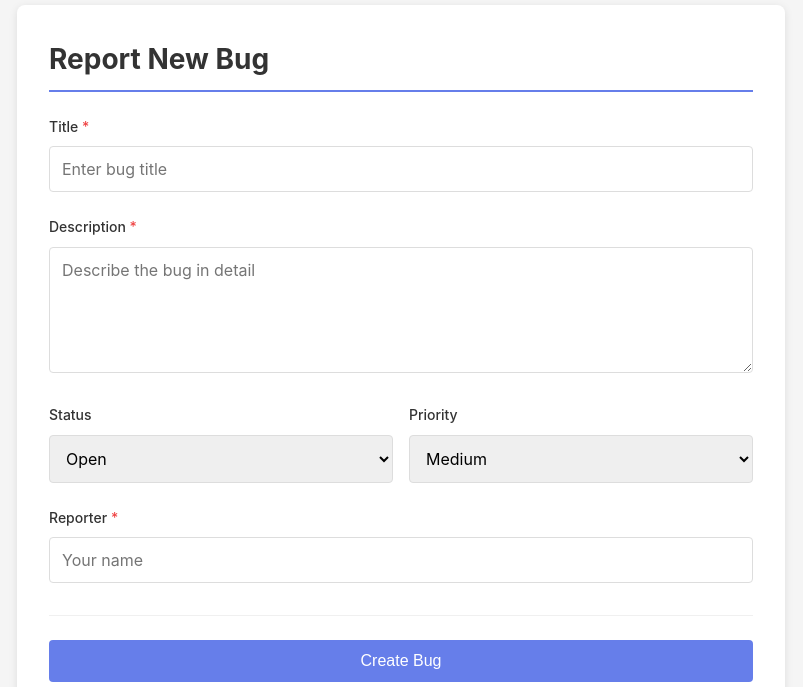
Test: BugForm Component › Form Validation › should clear field error when user starts typing
The image size is (803, 687).
Submit with empty title to trigger error
Click the button "Create Bug". click: (401, 661)
box: [49,640,753,682]
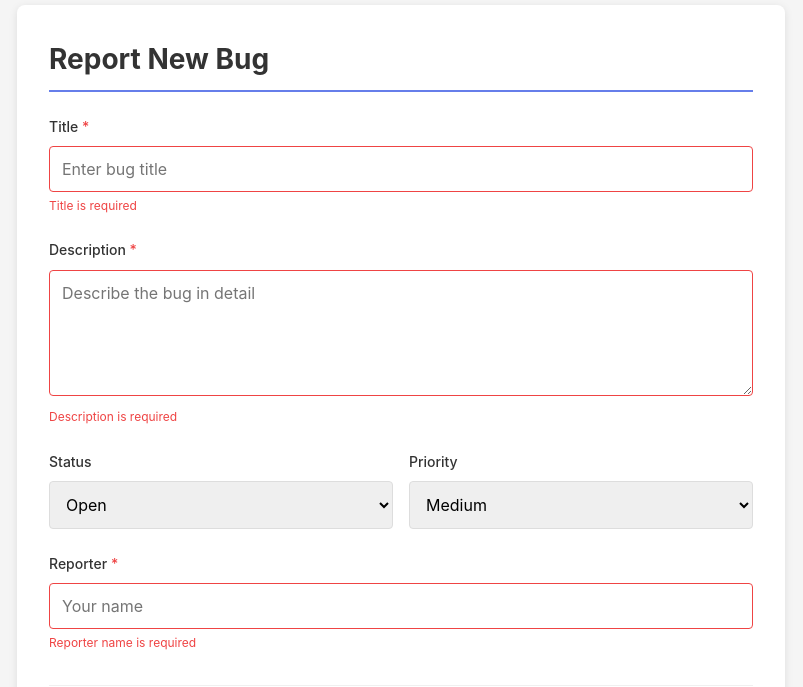
Expected: the text "Title is required" is shown, [49,198,137,213]
Start typing to clear error
Type "New Title" into the field labelled "Title *". click: (401, 169)
box: [49,146,753,192]
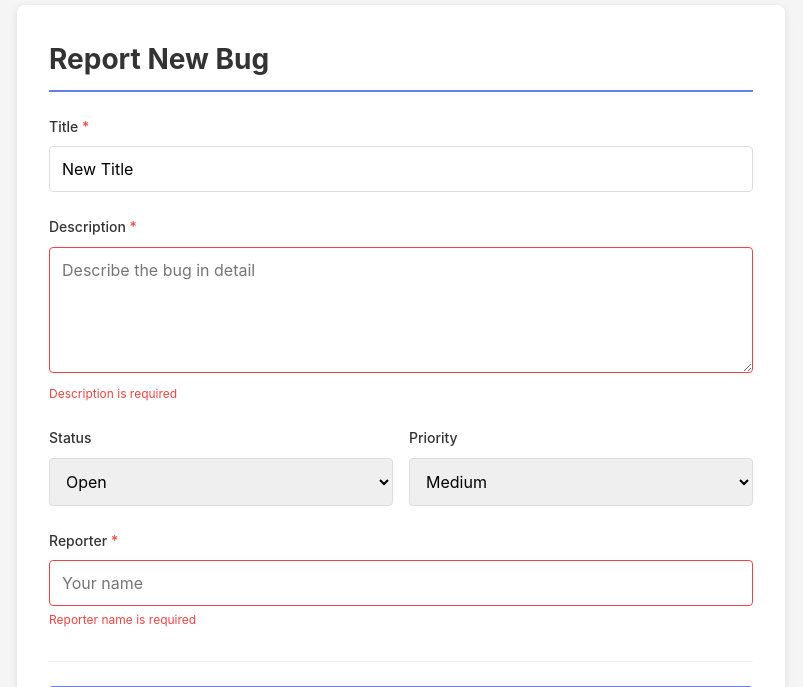
Expected: the text "Title is required" is gone
